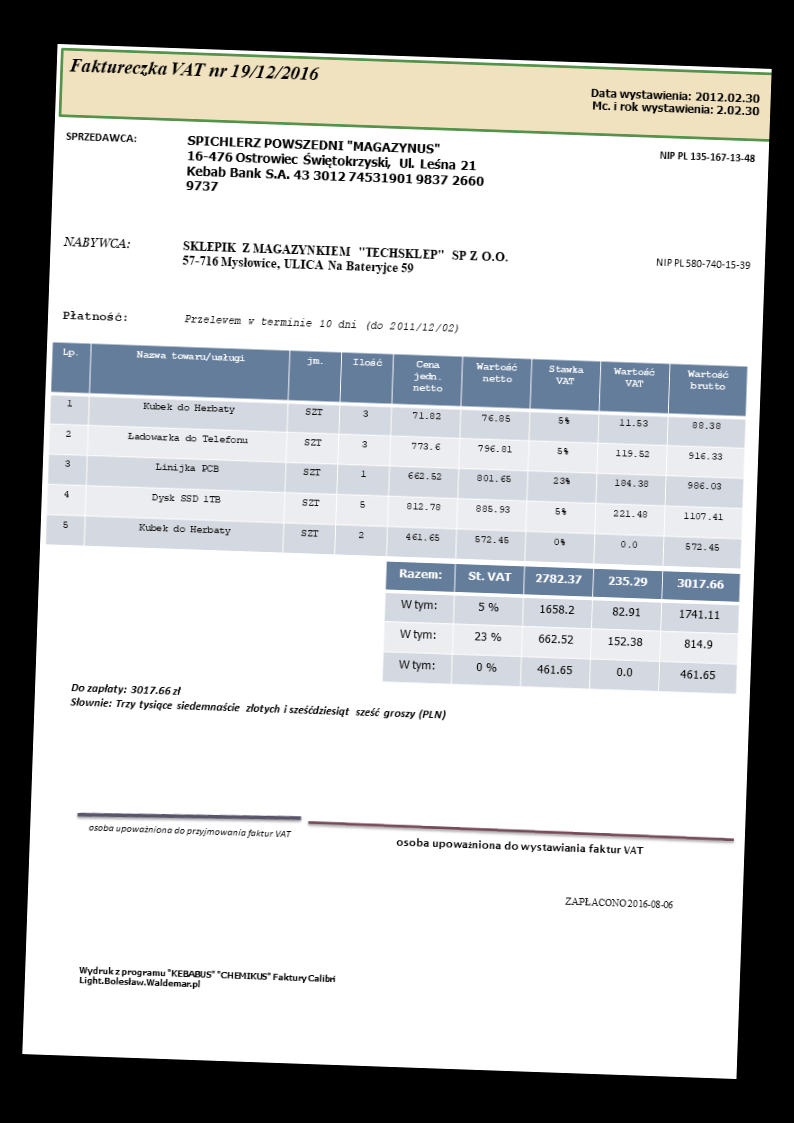Table: (44, 339, 750, 571), (381, 561, 742, 695)
TextBox: (183, 131, 488, 203), (68, 679, 448, 724), (180, 237, 509, 280), (77, 962, 339, 995), (67, 54, 322, 86), (182, 310, 460, 337), (393, 834, 644, 859), (588, 84, 762, 118), (86, 820, 293, 843), (561, 893, 675, 912), (654, 255, 752, 274), (658, 147, 759, 165), (60, 231, 133, 252), (64, 128, 137, 146), (60, 307, 131, 324)
